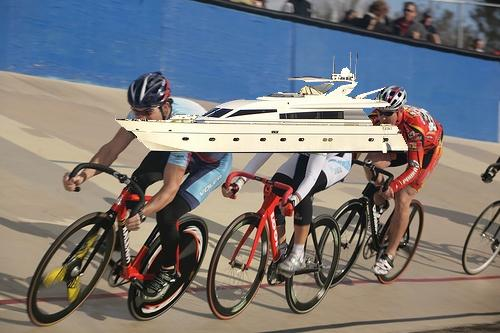tampered: (116, 53, 408, 153)
